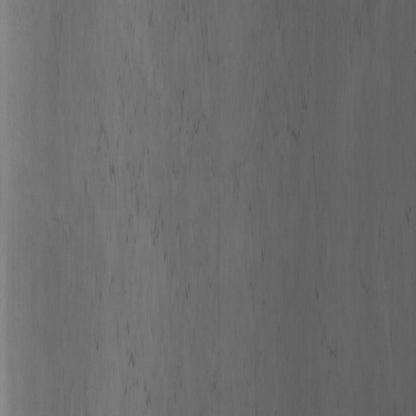silk_spot: (114, 90, 205, 304)
